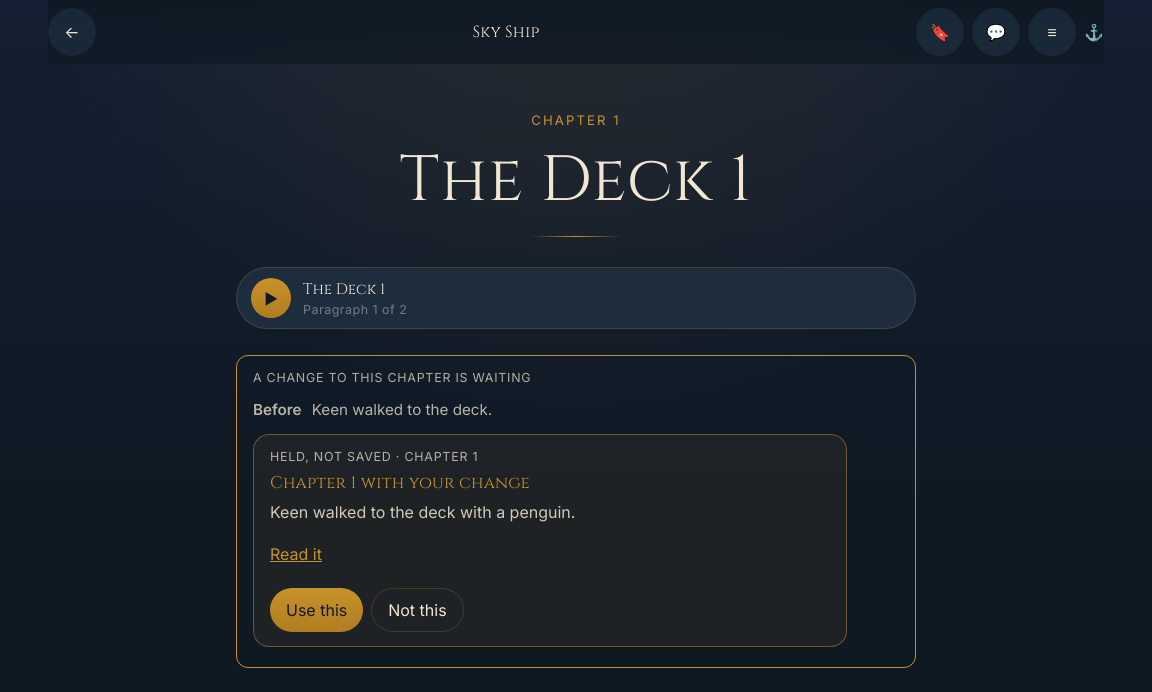
it: O-06: a change the server is holding is shown over the chapter › finds the held revision of THIS chapter, and Use this puts it on the page
The width and height of the screenshot is (1152, 692).
Expected: the text "A change to this chapter is waiting" is shown, [253,370,531,385]
Click the button "Use this": (317, 610) [270,588,363,632]
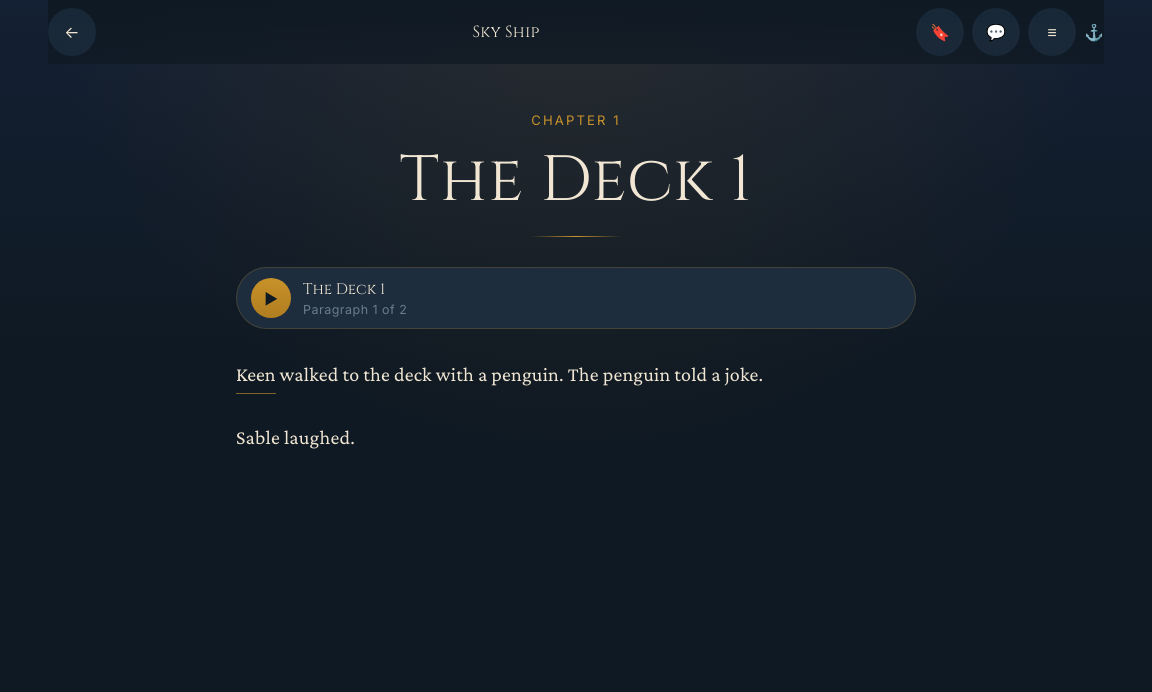
Expected: the element that starts with "Keen" shows "The penguin told a joke.", [236,355,763,448]
Expected: the text "A change to this chapter is waiting" is gone
